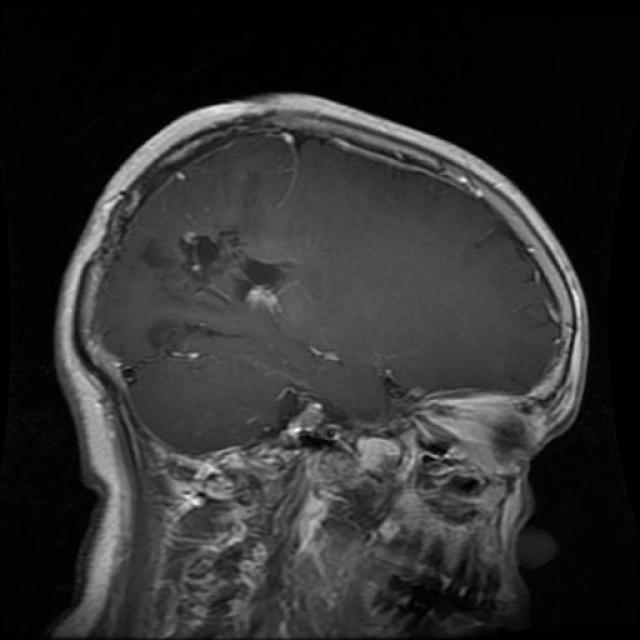glioma: (152, 230, 316, 338)
